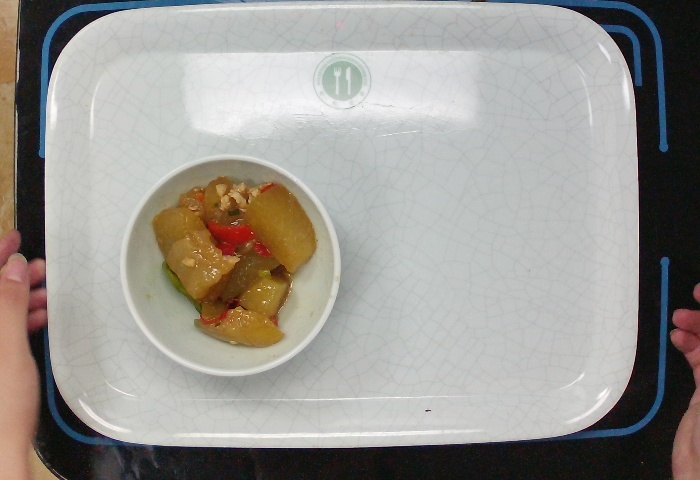JYsf-Fan_Wan: (119, 146, 348, 378)
